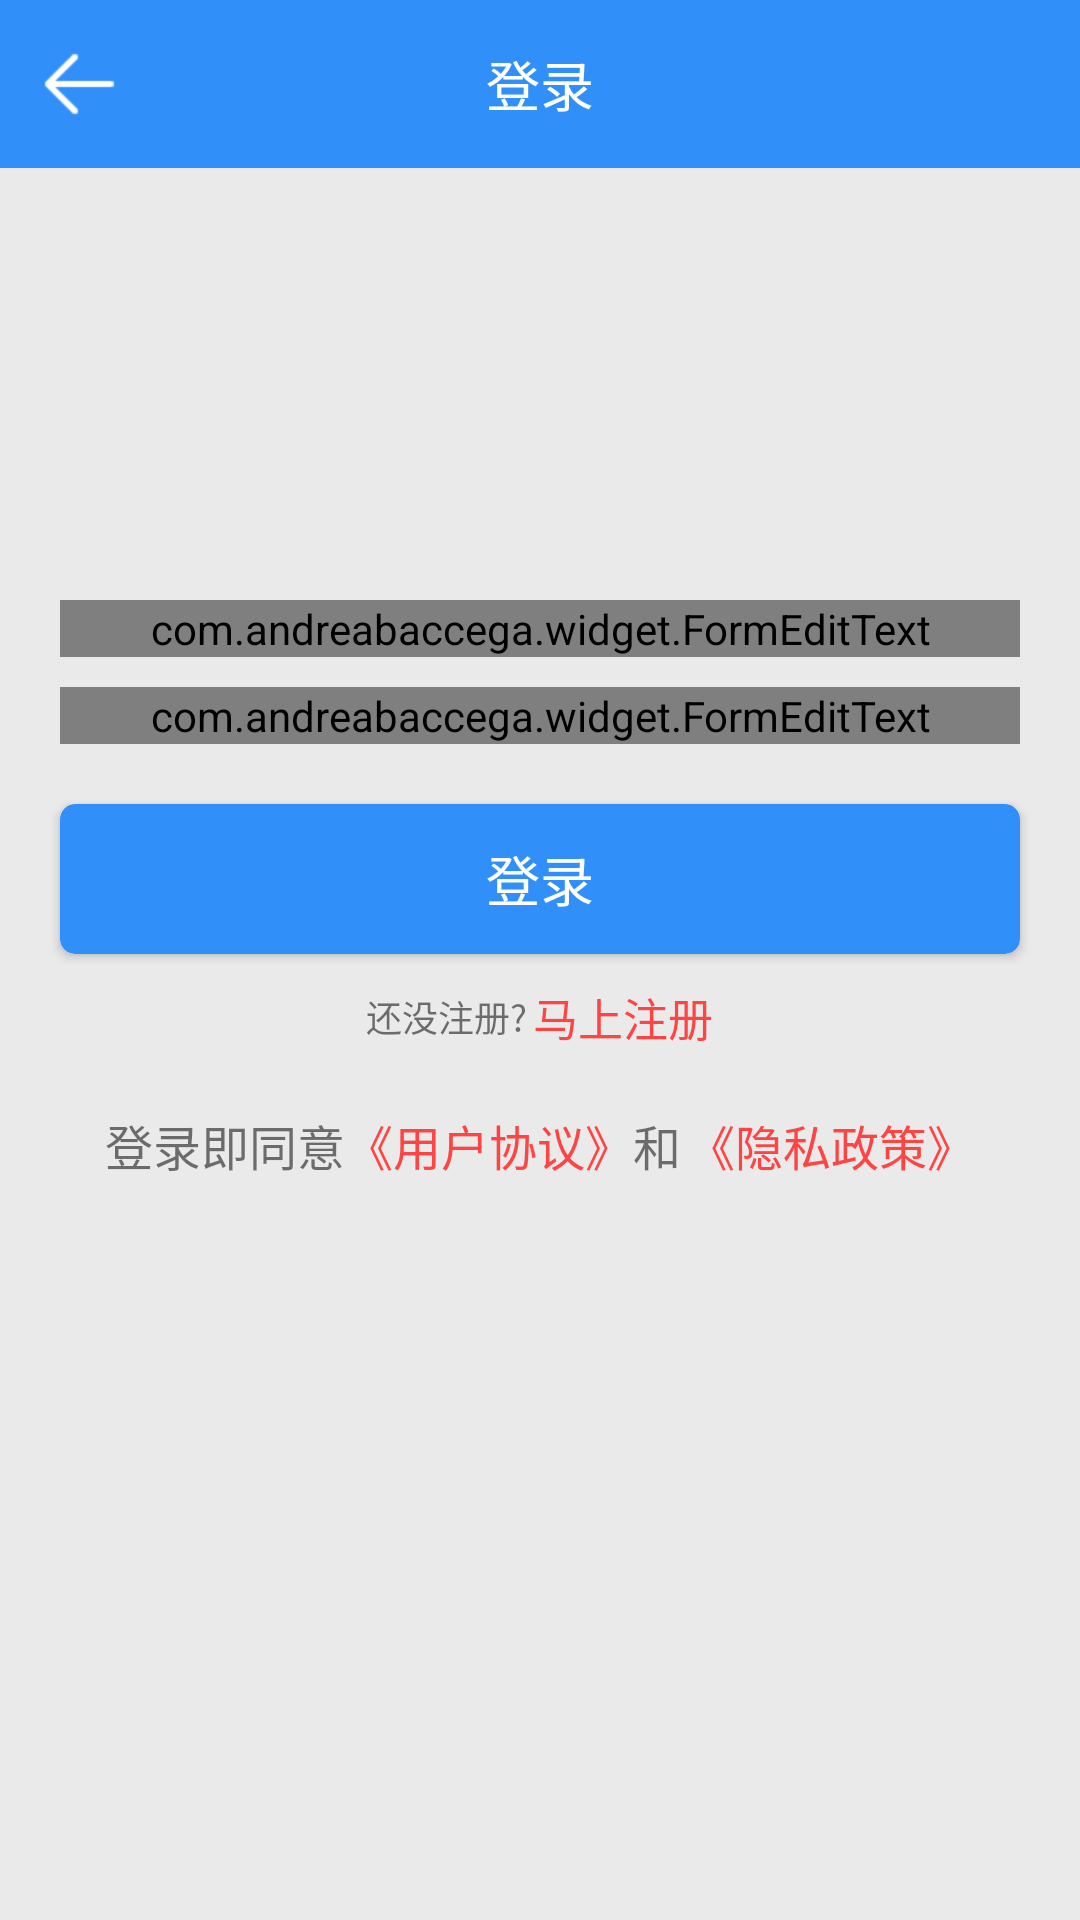

Point at icon controls on the screen. Image size 1080x1920, points as point (x, y).
back: point (79, 84)
